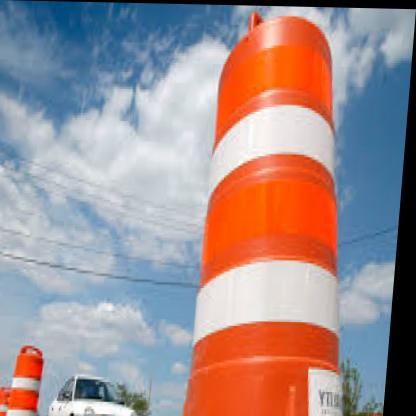obstacle: (186, 23, 363, 416)
